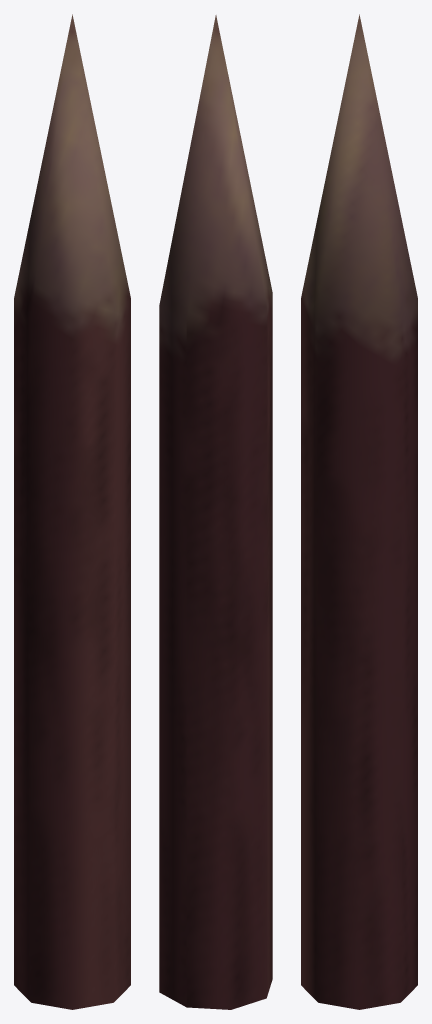
Rendered from WoodFence001.fbx.
3 renders of one model, left to right at view 1: azimuth 90°, elevation 25°; view 2: azimuth 150°, elevation 25°; view 3: azimuth 270°, elevation 25°, orthographic.
Parts seen in each view (by area): view 1: woodfence1; view 2: woodfence1; view 3: woodfence1.
Part boxes in pixels (x1,y1,x2,y2): woodfence1: [14, 14, 130, 1009]; woodfence1: [159, 15, 272, 1009]; woodfence1: [301, 14, 417, 1009].
Bounding box in the file's own units: 0.2835 × 2.6 × 0.2835.
1 material, 1 textured.
